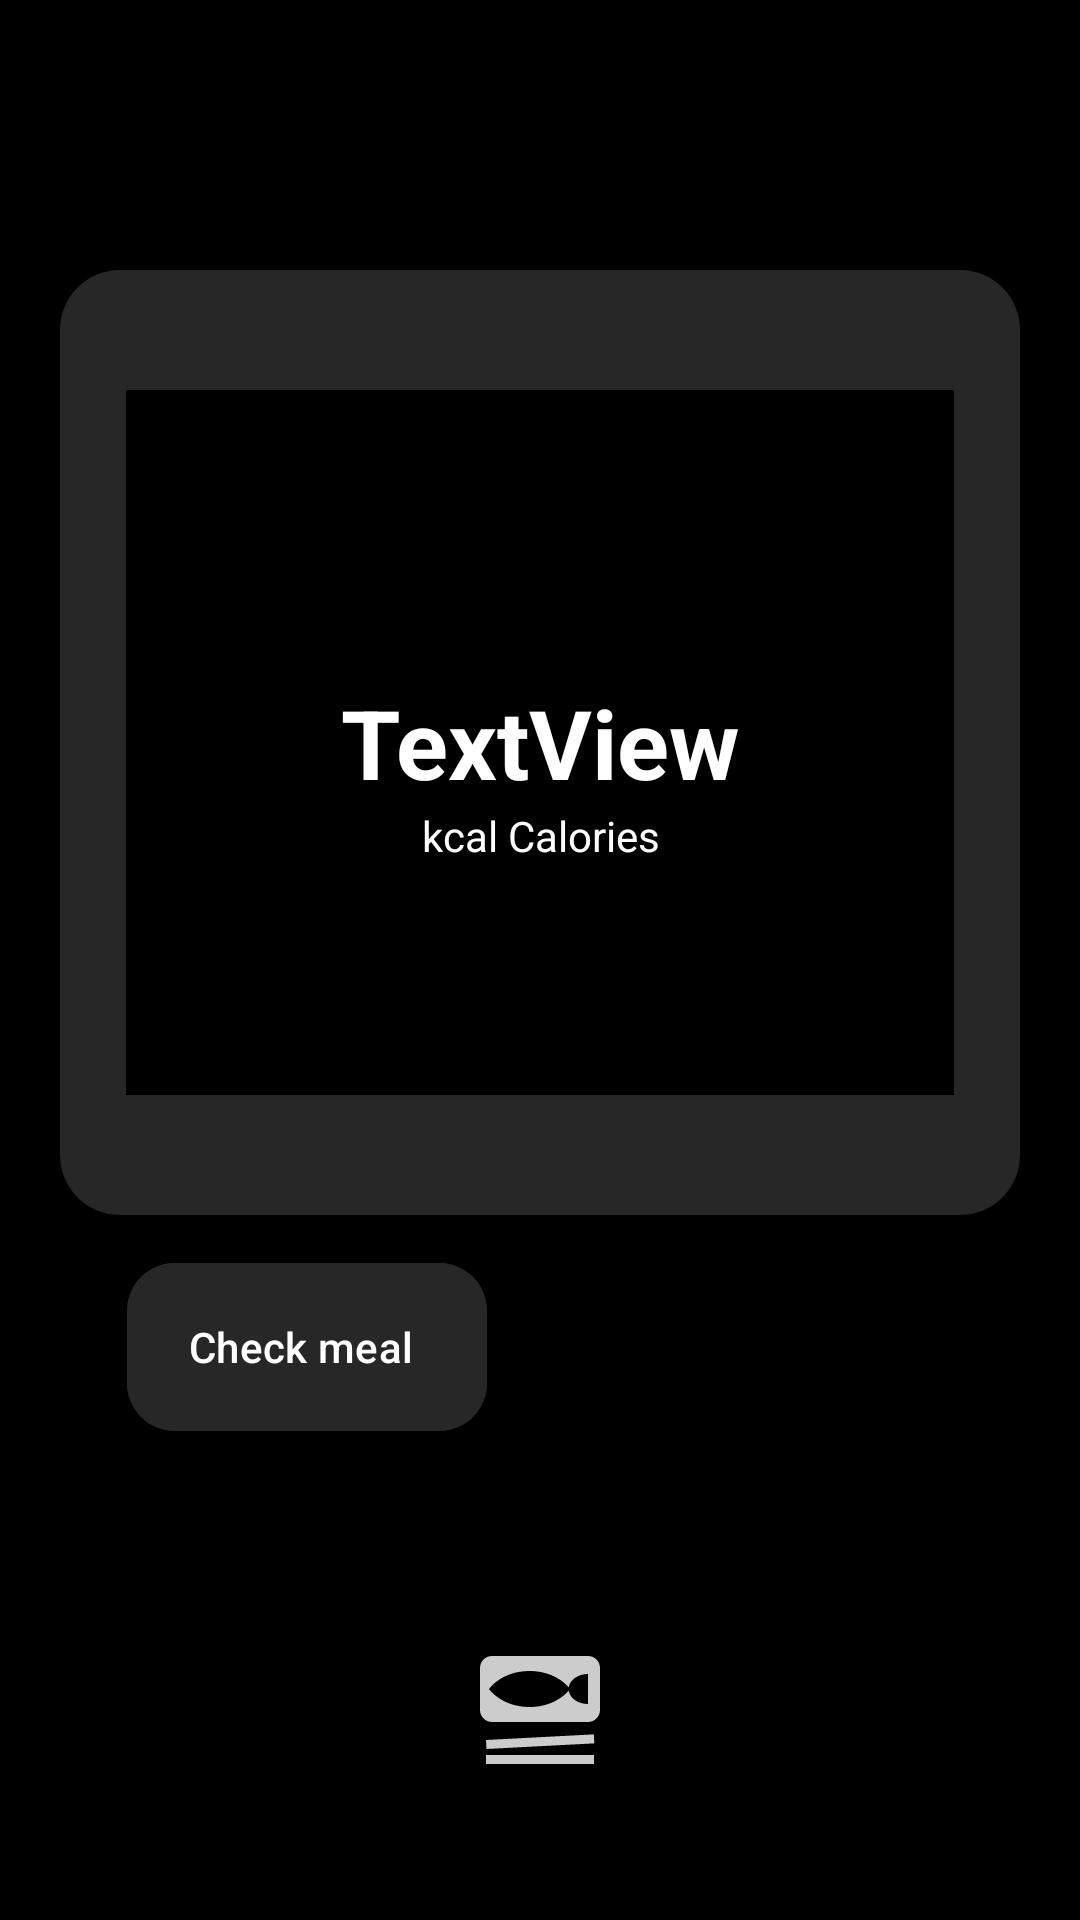

Icons on this 1080 × 1920 Android screen, each with its box as region(x1, y1, x2, y2):
Add meal: region(480, 1656, 600, 1764)
